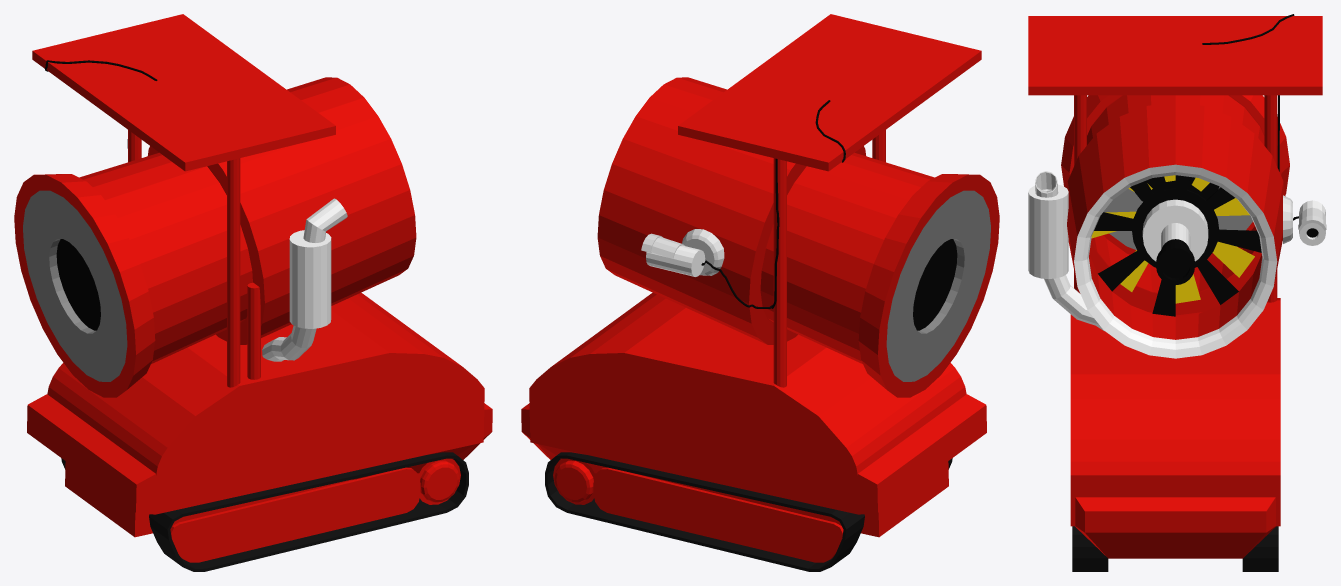
Rendered from UFM5.dae.
3 views of the same model, side by side, from view 1: azimuth 30°, elevation 25°; view 2: azimuth 150°, elevation 25°; view 3: azimuth 270°, elevation 25° (orthographic). The views are drawn at different scales.
Visible parts, largest first — view 1: Cylinder, UFM, Cylinder.005, Plane.001, Plane, Cube.002, Cylinder.003, Cylinder.004, Cube.001, Vert, Circle, Cylinder.001; view 2: Cylinder, UFM, Cylinder.005, Plane.001, Plane, Cube.002, Cube.001, Cylinder.004, Circle, Vert.001, Circle.001, cables (+1 smaller); view 3: Cylinder, UFM, Cylinder.005, Cube.001, Cylinder.003, Cylinder.002, Plane, Cylinder.004, Vert, Vert.001, cables, Vert.002 (+1 smaller).
Part boxes in pixels (x1,y1,x2,y2): Cylinder: (14,77,416,397); UFM: (47,292,484,514); Cylinder.005: (32,14,335,171); Plane.001: (170,467,420,562); Plane: (61,452,468,571); Cube.002: (27,394,155,514); Cylinder.003: (289,230,331,328); Cylinder.004: (128,130,240,387); Cube.001: (65,403,492,537); Vert: (262,198,347,361); Circle: (418,458,460,504); Cylinder.001: (247,282,260,379); Cylinder: (597,77,999,397); UFM: (529,292,966,514); Cylinder.005: (678,14,981,171); Plane.001: (593,467,843,562); Plane: (545,452,952,571); Cube.002: (858,394,986,514); Cube.001: (521,403,948,537); Cylinder.004: (773,130,885,387); Circle: (553,458,595,504); Vert.001: (646,245,705,276); Circle.001: (682,229,724,275); cables: (701,100,845,308); Cylinder: (1061,95,1289,358); UFM: (1070,298,1280,526); Cylinder.005: (1028,16,1322,95); Cube.001: (1075,497,1275,558); Cylinder.003: (1028,184,1068,278); Cylinder.002: (1091,175,1254,303); Plane: (1072,526,1278,571); Cylinder.004: (1074,95,1277,302); Vert: (1035,171,1104,331); Vert.001: (1299,200,1325,245); cables: (1202,14,1298,240); Vert.002: (1298,207,1326,230).
Size of the model in its own units: 1.57 by 1.1 by 1.71.
